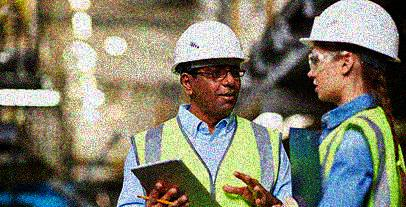helmet: (297, 1, 401, 102), (169, 19, 250, 112)
